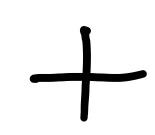plus: (31, 25, 147, 122)
